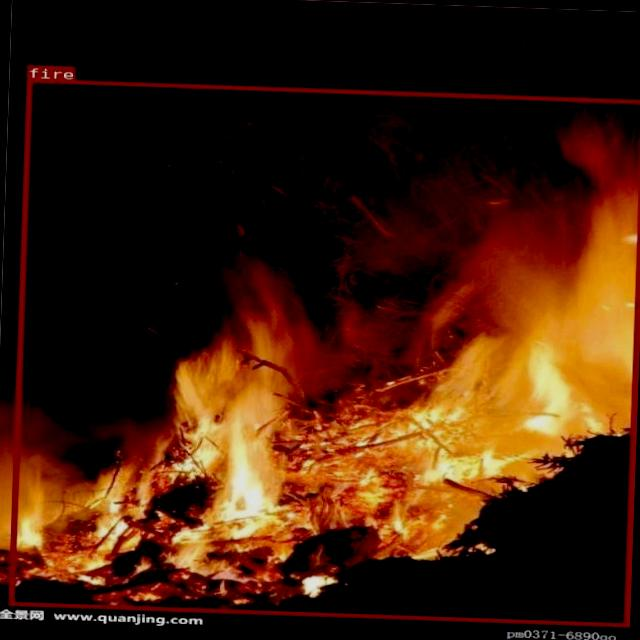fire: (7, 77, 640, 625)
